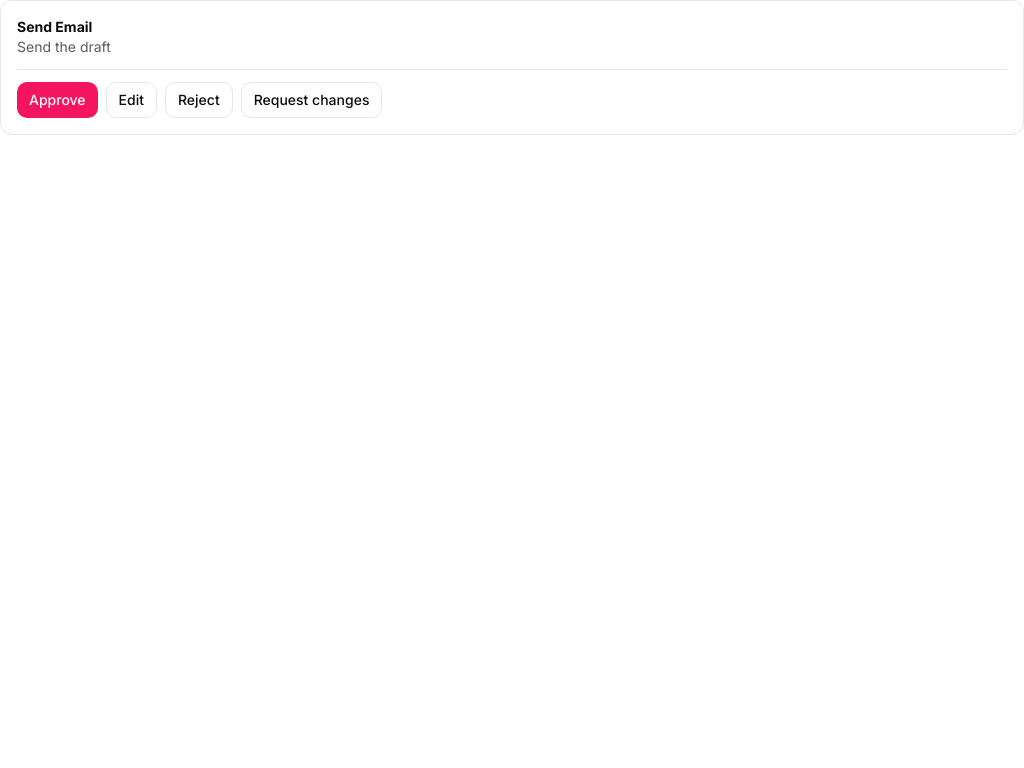
ApprovalCard › shows the generated edit form behind a divider and heading
Expected: the text "Edit fields" is not shown
Click the button "Edit".
click(131, 100)  # box [106,82,157,118]
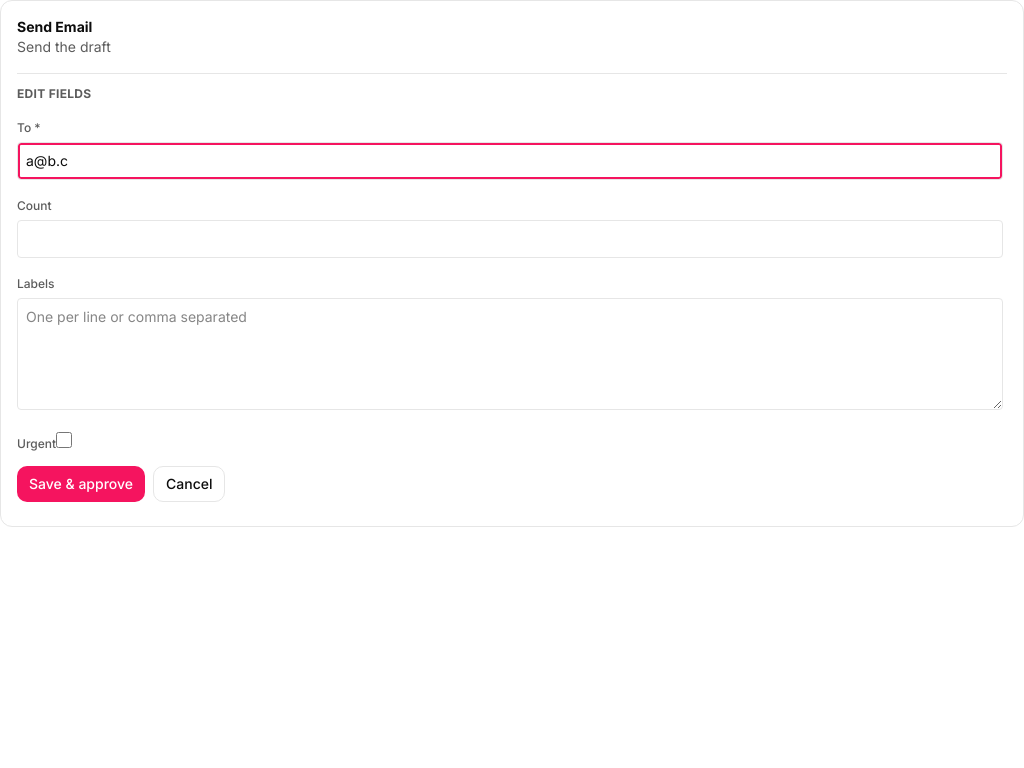
Now the text "Edit fields" is shown, box [17,86,92,101]
Now the button "Save & approve" is shown, box [17,466,145,502]
